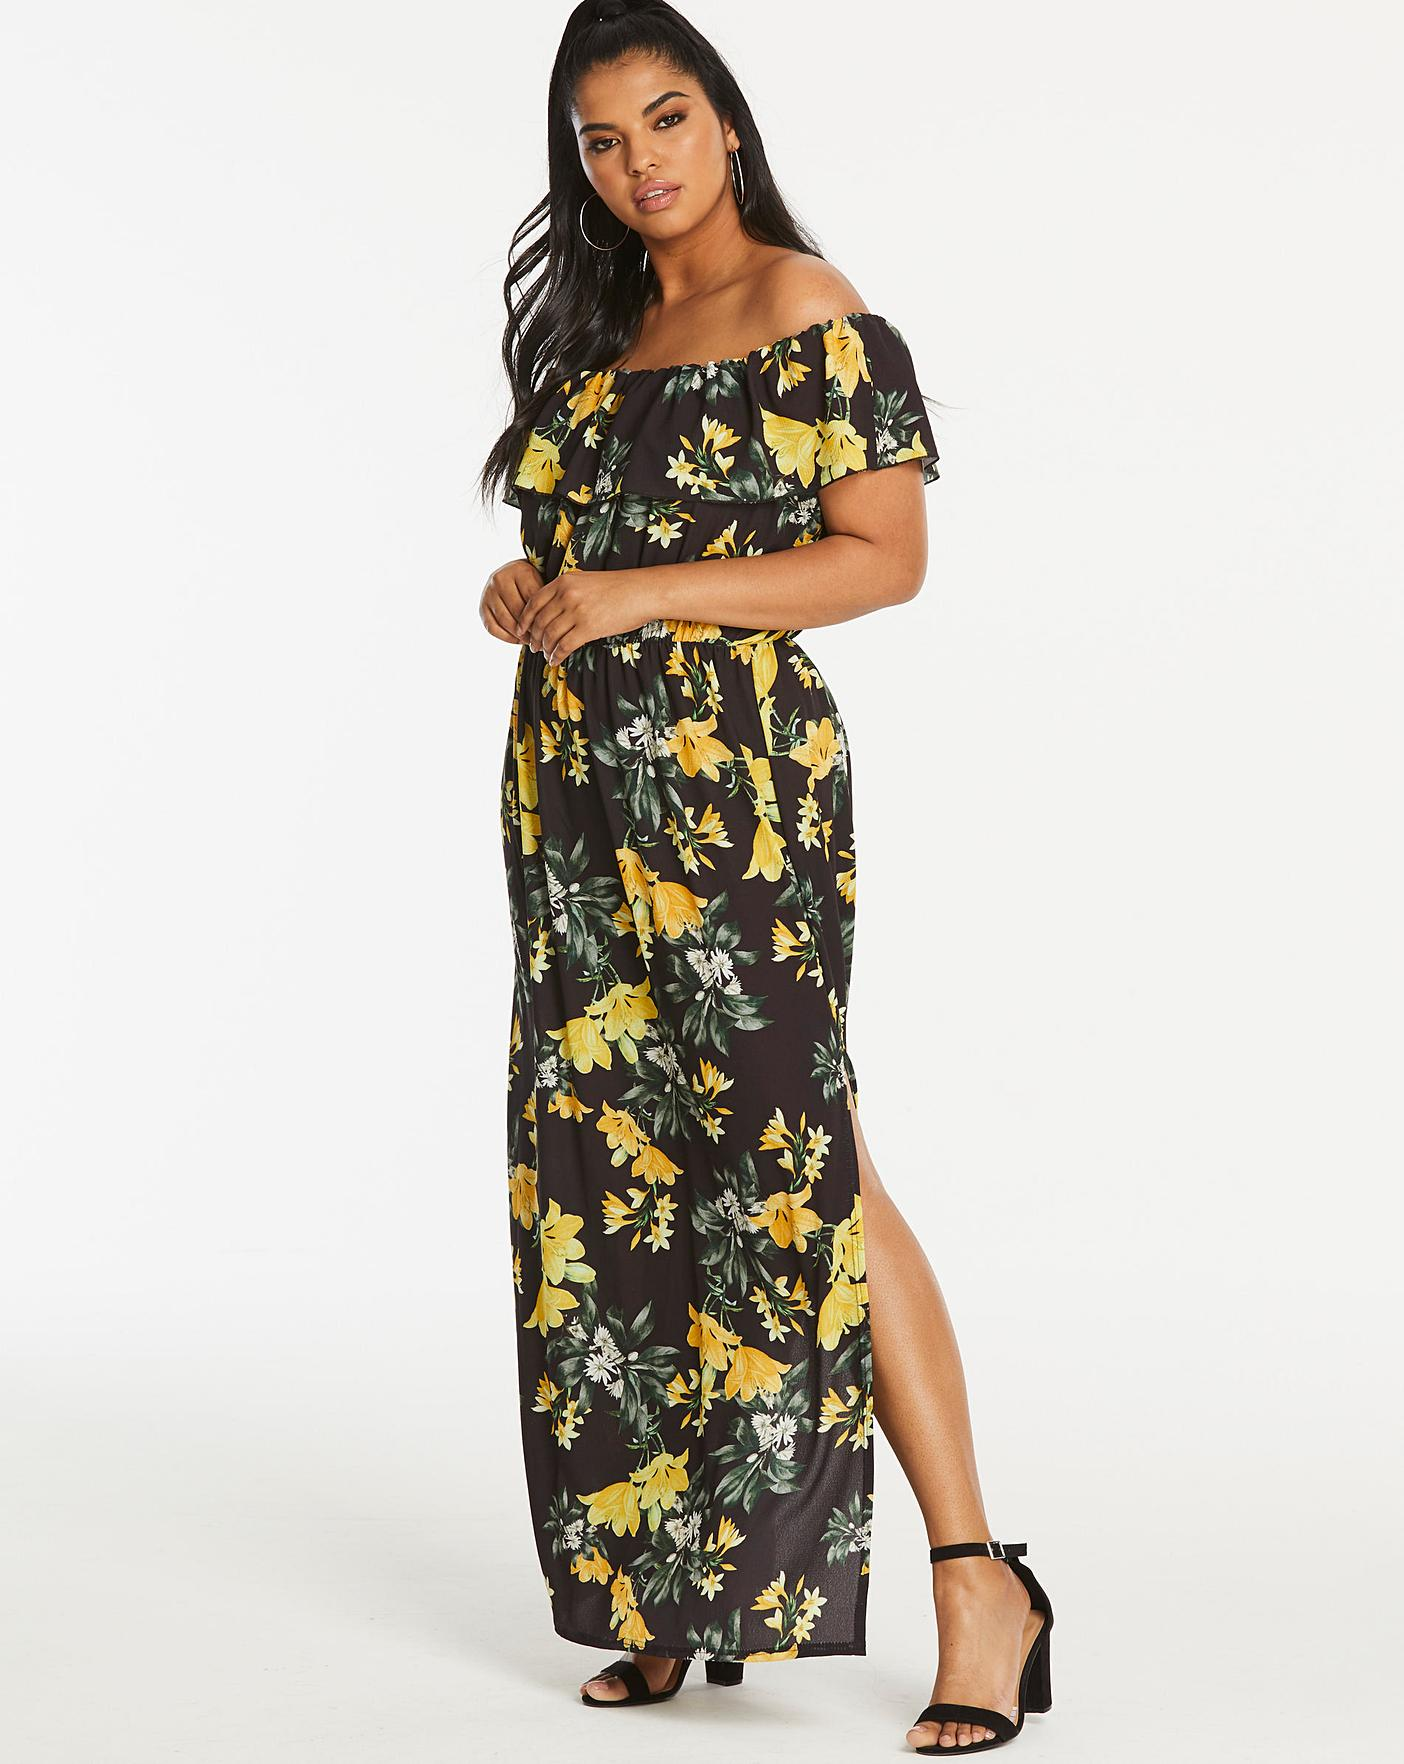C_dress: (393, 307, 1029, 1626)
